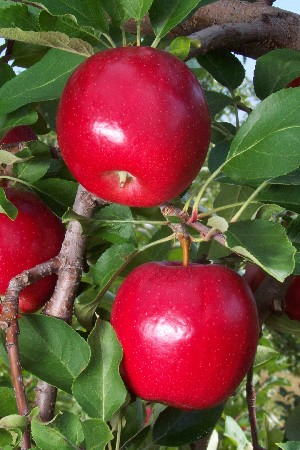apple: (53, 42, 213, 211), (109, 257, 262, 414)
